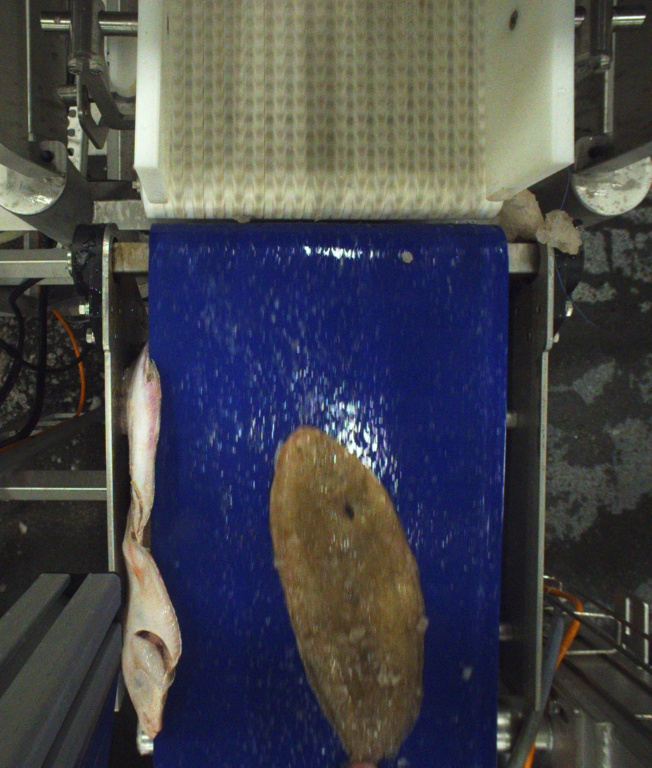SOL: (270, 427, 425, 768)
